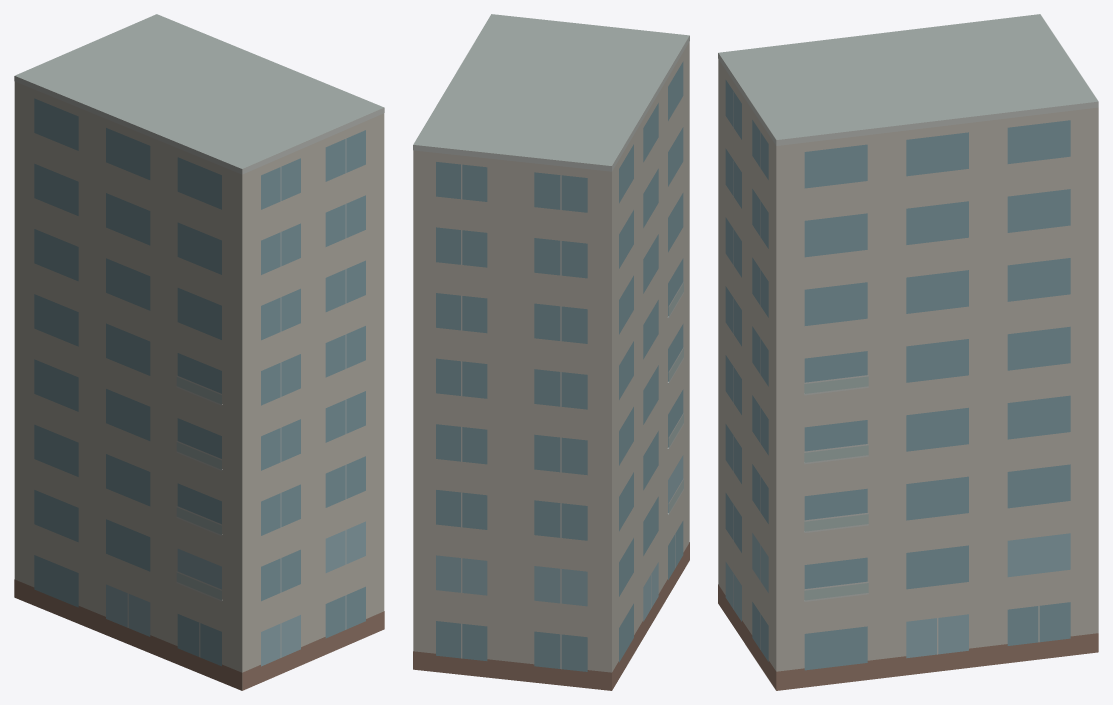
The model's file is survey-upis-32577860.glb.
3 renders of one model, left to right at view 1: azimuth 30°, elevation 25°; view 2: azimuth 150°, elevation 25°; view 3: azimuth 270°, elevation 25°, orthographic. The views are drawn at different scales.
Visible parts, largest first — view 1: survey-upis-32577860.tmp; view 2: survey-upis-32577860.tmp; view 3: survey-upis-32577860.tmp.
Boxes of the visible parts, x1,y1,x2,y2 form: survey-upis-32577860.tmp: (14, 14, 384, 690); survey-upis-32577860.tmp: (413, 14, 689, 690); survey-upis-32577860.tmp: (718, 14, 1098, 690).
Bounding box in the file's own units: 11.21 × 22.8 × 14.29.
